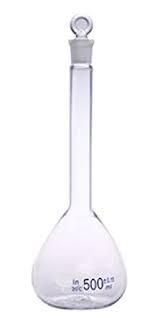Volumetric flask: (29, 10, 136, 308)
